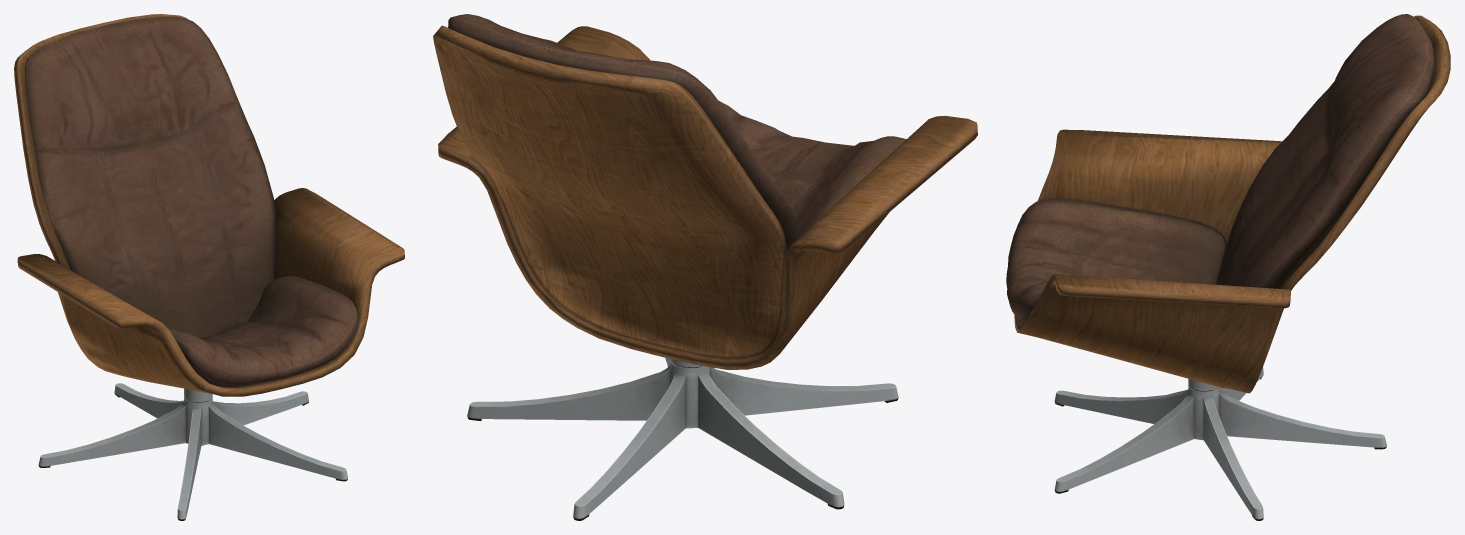
Rendered from ph-mid-century-lounge-chair.glb.
The picture shows the model from 3 angles, left to right: view 1: azimuth 30°, elevation 25°; view 2: azimuth 150°, elevation 25°; view 3: azimuth 270°, elevation 25°; orthographic projection. The views are drawn at different scales.
Parts seen in each view (by area): view 1: mid_century_lounge_chair; view 2: mid_century_lounge_chair; view 3: mid_century_lounge_chair.
Boxes of the visible parts, x1=… form: mid_century_lounge_chair: x1=14, y1=14, x2=404, y2=520; mid_century_lounge_chair: x1=433, y1=14, x2=977, y2=520; mid_century_lounge_chair: x1=1006, y1=14, x2=1450, y2=520.
Size of the model in its own units: 1.01 by 1.17 by 1.19.
Materials: 1 (1 with a texture image).
